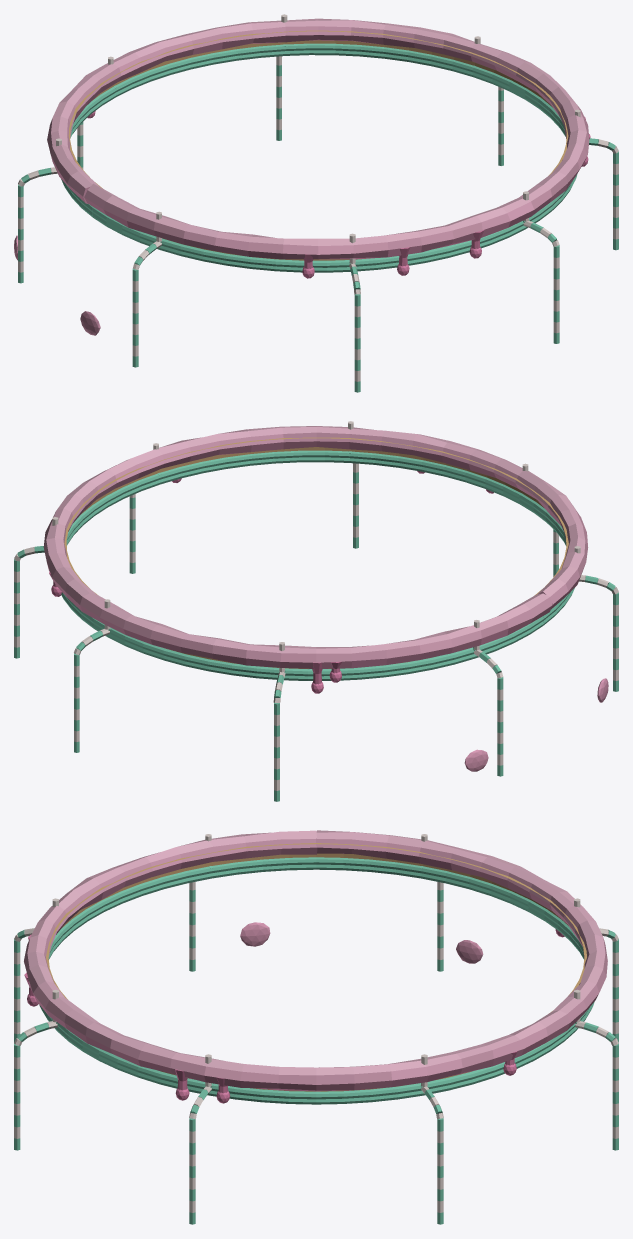
The model's file is goo_jar_trim_1_mid@candy.fbx.
3 views of the same model, one above another, from view 1: azimuth 30°, elevation 25°; view 2: azimuth 150°, elevation 25°; view 3: azimuth 270°, elevation 25° (orthographic). The views are drawn at different scales.
Visible parts, largest first — view 1: goo_jar_trim_1_mid; view 2: goo_jar_trim_1_mid; view 3: goo_jar_trim_1_mid.
Boxes of the visible parts, bbox=[...] form: goo_jar_trim_1_mid: bbox=[14, 14, 618, 392]; goo_jar_trim_1_mid: bbox=[14, 421, 618, 801]; goo_jar_trim_1_mid: bbox=[14, 830, 618, 1224].
Size of the model in its own units: 60.32 by 16.05 by 58.25.
